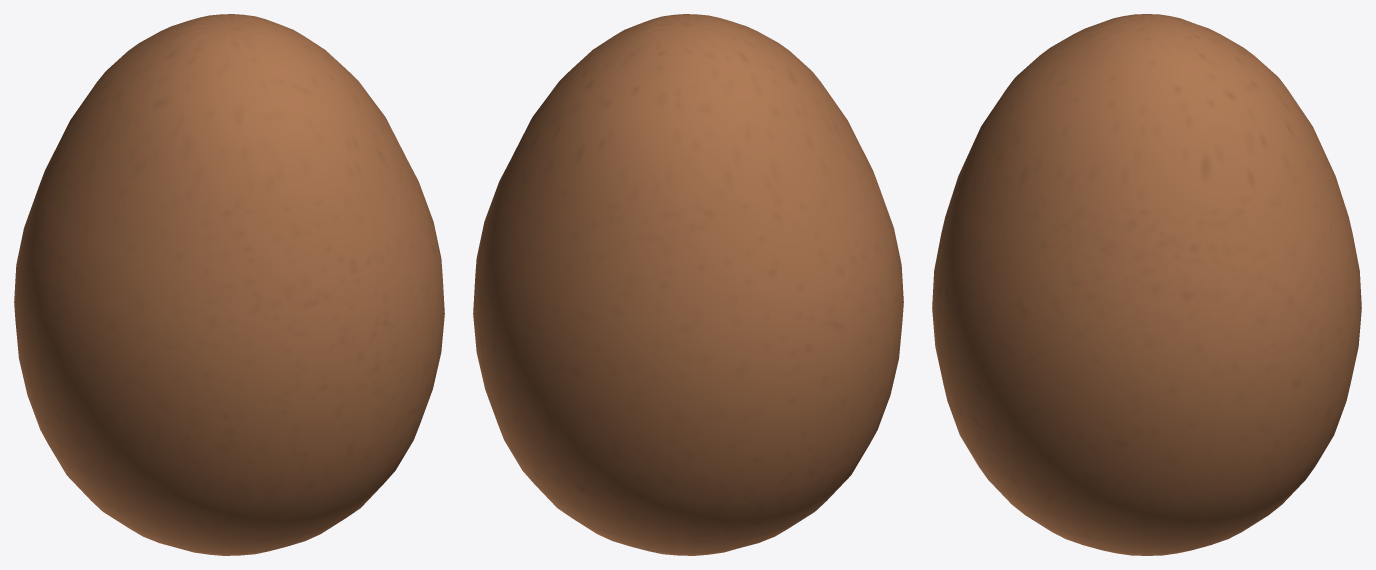
File: brownegg.glb
3 views of the same model, side by side, from view 1: azimuth 30°, elevation 25°; view 2: azimuth 150°, elevation 25°; view 3: azimuth 270°, elevation 25° (orthographic).
Visible parts, largest first — view 1: SphereFBXASC046001; view 2: SphereFBXASC046001; view 3: SphereFBXASC046001.
Boxes of the visible parts, <box> form: SphereFBXASC046001: <box>14,14,444,555</box>; SphereFBXASC046001: <box>473,14,903,555</box>; SphereFBXASC046001: <box>932,14,1361,555</box>.
Size of the model in its own units: 8.86 by 11.51 by 8.8.
Materials: 1 (1 with a texture image).
